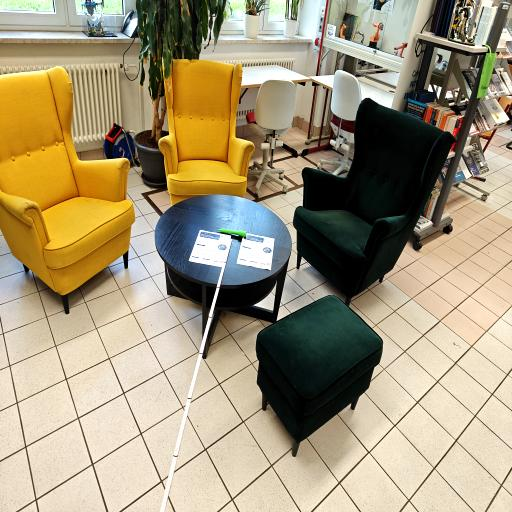Probe-Detection: (218, 228, 246, 237)
